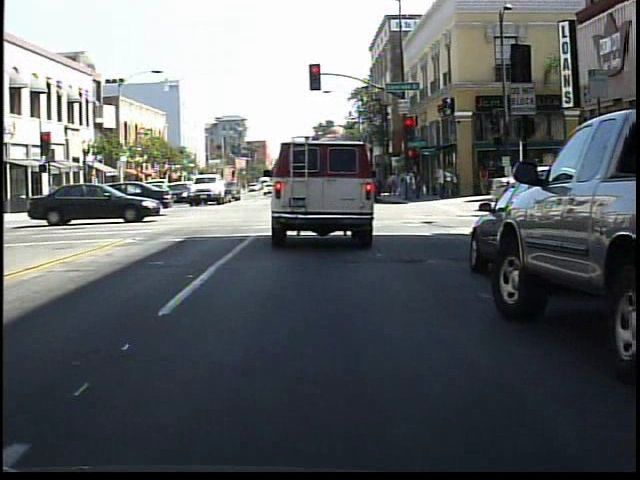person: (474, 159, 494, 198)
